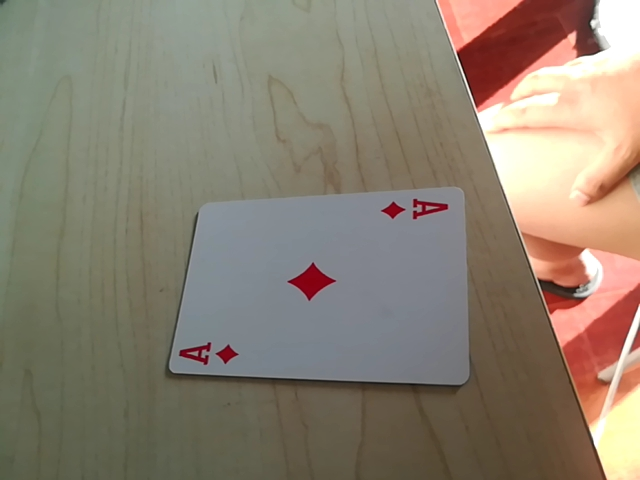fk a: (172, 338, 243, 371), (379, 196, 450, 224)
